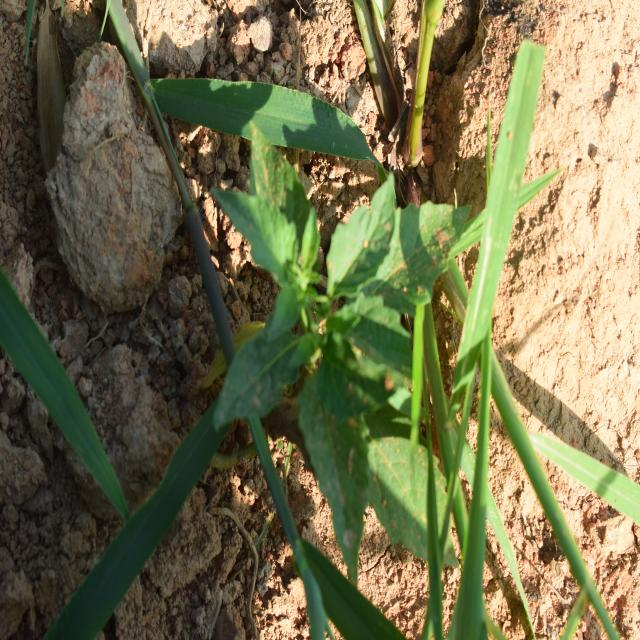Black_nightshade: (225, 150, 416, 530)
